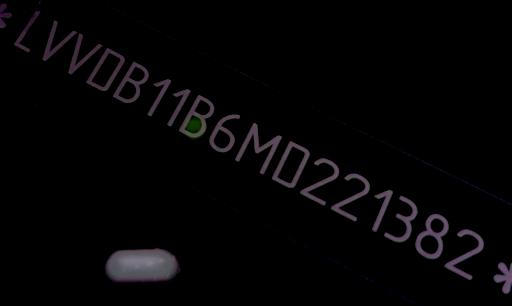letter: (230, 120, 284, 176), (440, 226, 488, 281), (297, 156, 343, 207), (328, 170, 372, 223), (270, 137, 312, 189), (380, 192, 420, 245), (412, 211, 452, 260), (84, 45, 126, 90), (176, 91, 216, 137), (110, 60, 150, 103), (40, 18, 78, 61), (10, 6, 42, 56), (66, 33, 104, 75), (206, 111, 242, 153), (367, 188, 395, 233), (144, 76, 174, 116), (164, 86, 192, 127)
